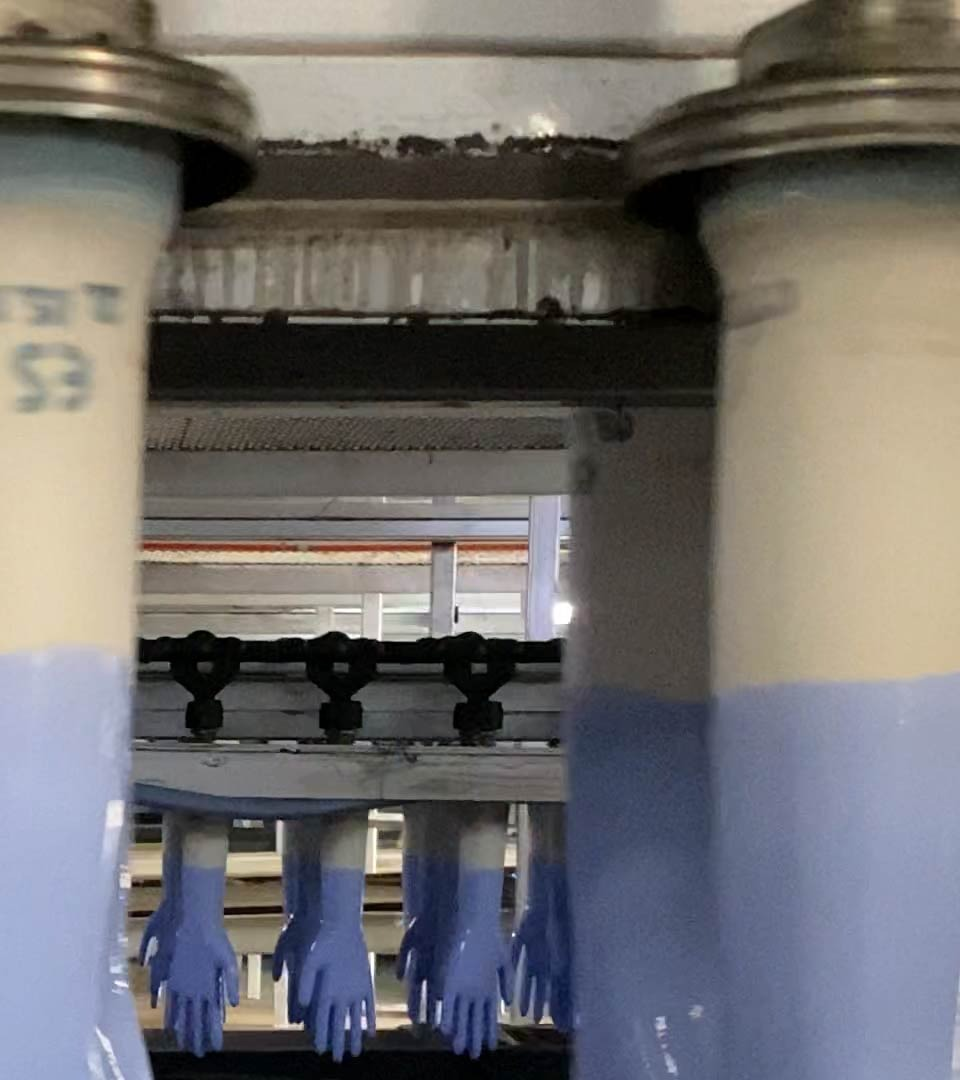glove: (158, 861, 246, 1055), (293, 863, 374, 1063), (435, 863, 514, 1055)
